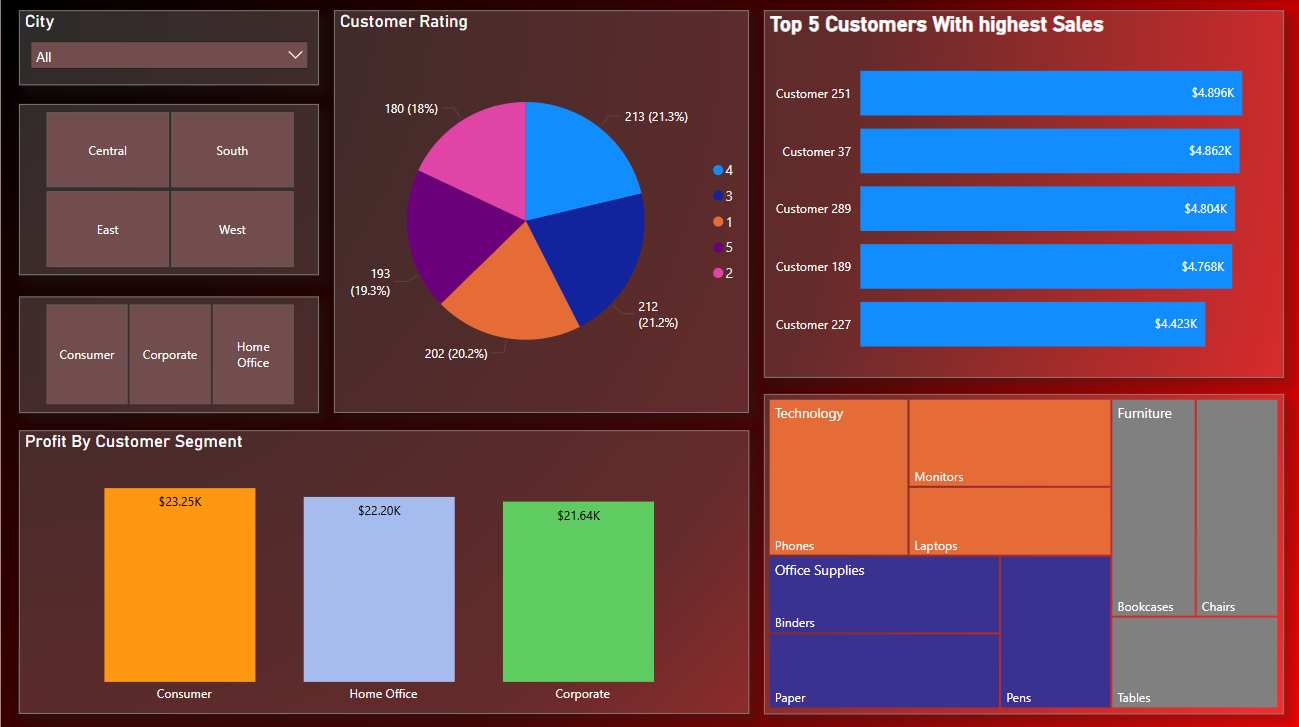

Layout of this report page (visuals, bound fields, positions):
{"tool":"powerbi","page":{"name":"Customer & Product Insights","canvas":[1280,720],"ordinal":2},"visuals":[{"type":"barChart","title":"Top 5 Customers With highest Sales","fields":{"Category":["Sample_SalesData.Customer Name"],"Y":["Sum(Sample_SalesData.Sales)"]},"box":[750.9,11,510.4,360.7],"z":0},{"type":"clusteredColumnChart","title":"Profit By Customer Segment","fields":{"Category":["Sample_SalesData.Segment"],"Y":["Sum(Sample_SalesData.Profit)"]},"box":[19.6,423.3,716.6,278.5],"z":1000},{"type":"treemap","fields":{"Values":["Sum(Sample_SalesData.Sales)"],"Group":["Sample_SalesData.Category"],"Details":["Sample_SalesData.Sub-Category"]},"box":[750.9,387.7,510.4,314.1],"z":2000},{"type":"pieChart","title":"Customer Rating","fields":{"Category":["Sample_SalesData.Customer Rating"],"Y":["CountNonNull(Sample_SalesData.Customer ID)"]},"box":[328.8,11,407.4,395.1],"z":3000},{"type":"slicer","fields":{"Values":["Sample_SalesData.Segment"]},"box":[19.6,292,294.5,114.1],"z":4000},{"type":"slicer","fields":{"Values":["Sample_SalesData.Region"]},"box":[19.6,103.1,294.5,168.1],"z":5000},{"type":"slicer","title":"City","fields":{"Values":["Sample_SalesData.City"]},"box":[19.6,11,294.5,73.6],"z":6000}]}

Visuals, with their boxes in screenshot pixels (x1, y1, x2, y2), scaled from the page's 1280x720 canvas onto the 1299x727 screenshot:
"Top 5 Customers With highest Sales" barChart: <box>762,11,1280,375</box>
"Profit By Customer Segment" clusteredColumnChart: <box>20,427,747,709</box>
treemap - Sum(Sample_SalesData.Sales) x Sample_SalesData.Category: <box>762,391,1280,709</box>
"Customer Rating" pieChart: <box>334,11,747,410</box>
slicer - Sample_SalesData.Segment: <box>20,295,319,410</box>
slicer - Sample_SalesData.Region: <box>20,104,319,274</box>
"City" slicer: <box>20,11,319,85</box>
